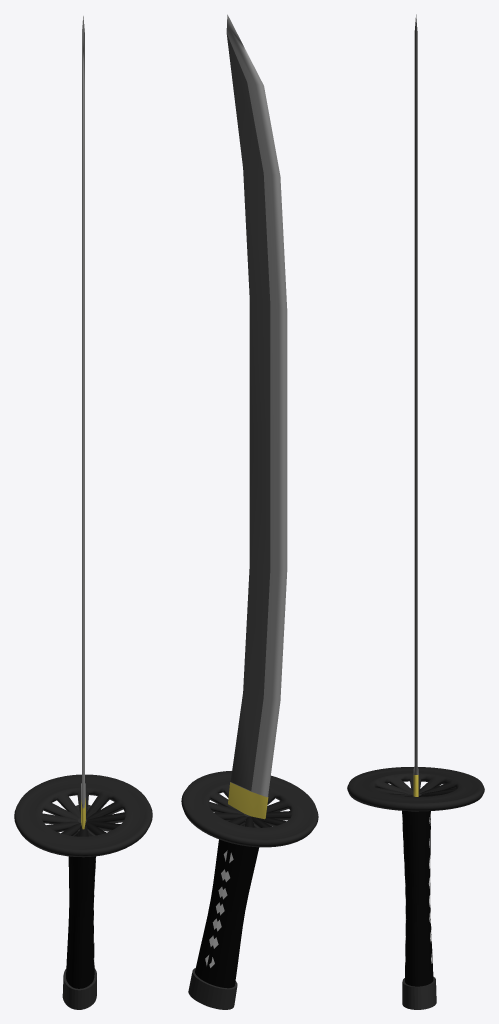
File: Katana.fbx
3 views of the same model, side by side, from view 1: azimuth 90°, elevation 25°; view 2: azimuth 150°, elevation 25°; view 3: azimuth 270°, elevation 25° (orthographic).
Parts seen in each view (by area): view 1: Guard, Handle, Blade; view 2: Blade, Handle, Guard; view 3: Handle, Guard, Blade.
Part boxes in pixels (x1,y1,x2,y2): Guard: [14, 774, 152, 857]; Handle: [62, 804, 96, 1009]; Blade: [81, 16, 85, 829]; Blade: [226, 14, 287, 819]; Handle: [188, 813, 259, 1009]; Guard: [181, 771, 318, 847]; Handle: [402, 794, 436, 1009]; Guard: [347, 767, 484, 811]; Blade: [413, 14, 418, 796].
Size of the model in its own units: 13.84 by 111 by 14.02.
